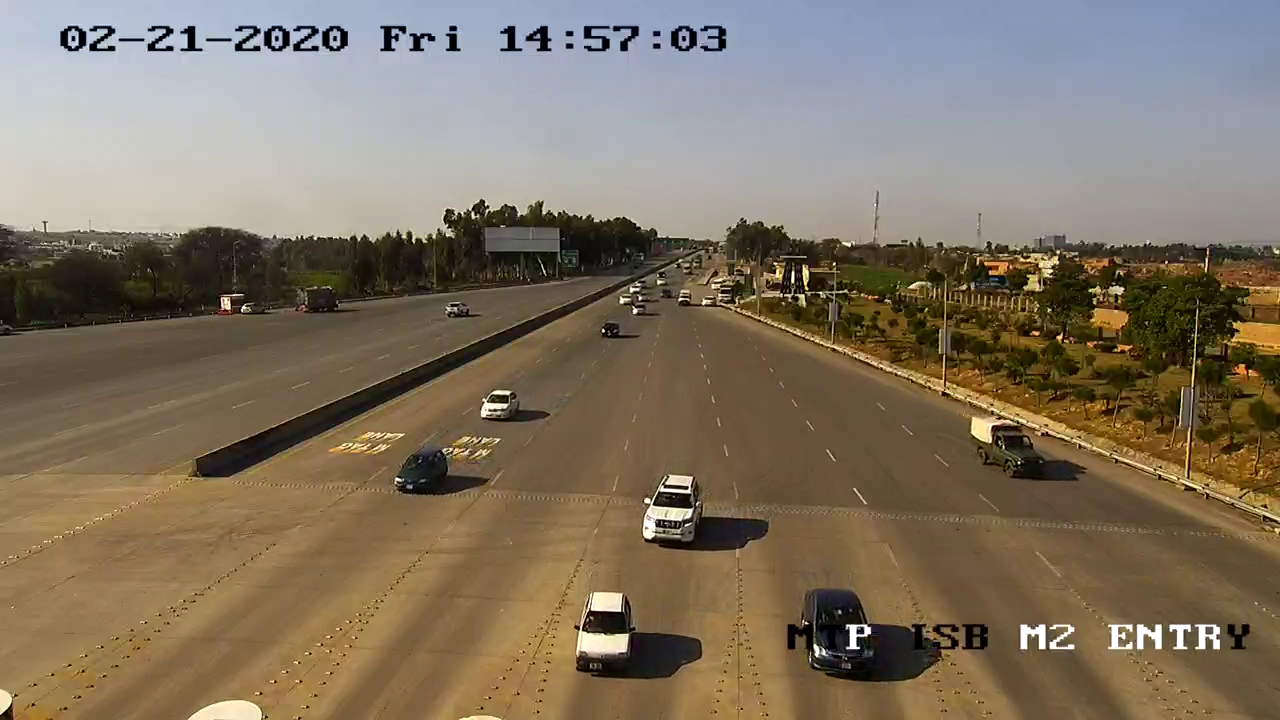f1: (787, 581, 887, 681), (965, 404, 1060, 491), (566, 587, 643, 680), (637, 461, 708, 555), (385, 439, 454, 512), (474, 378, 526, 438)
